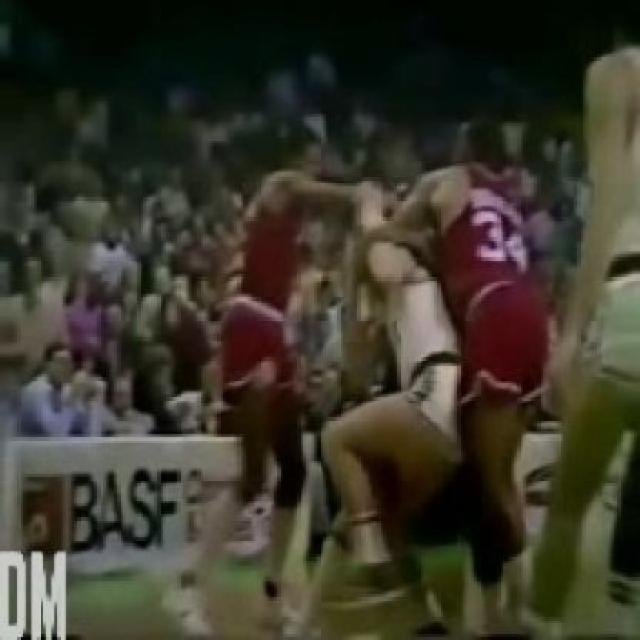fight: (160, 118, 554, 640)
